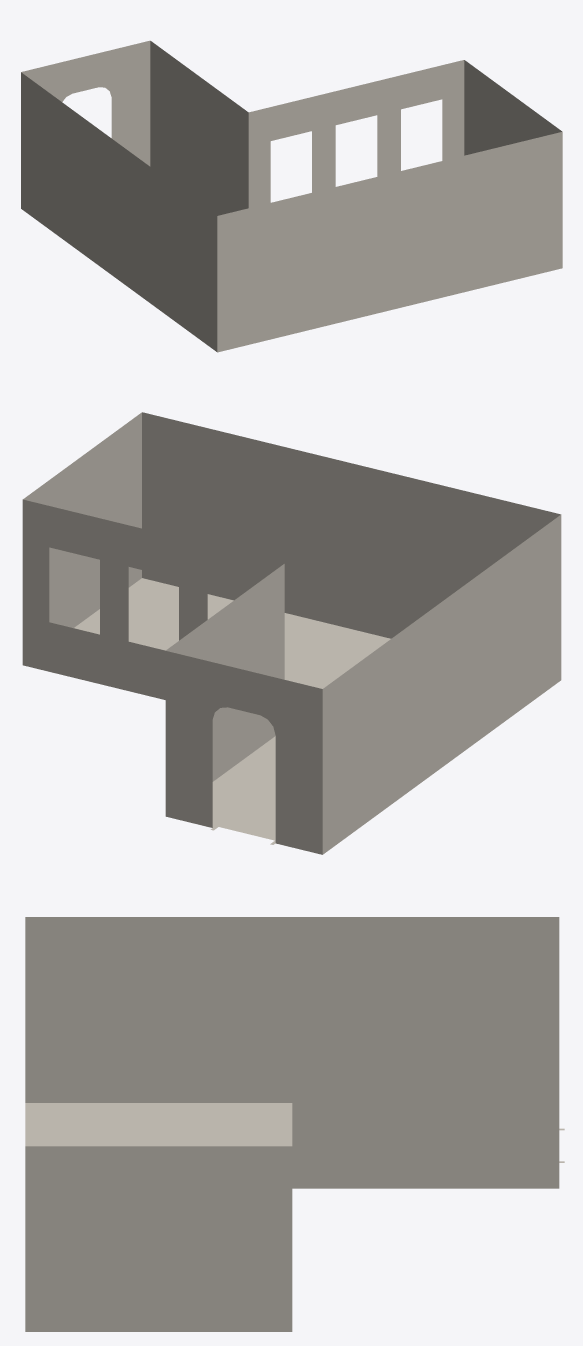
File: Bld_C_low_L4_C.fbx
3 views of the same model, one above another, from view 1: azimuth 30°, elevation 25°; view 2: azimuth 150°, elevation 25°; view 3: azimuth 270°, elevation 25° (orthographic). The views are drawn at different scales.
Visible parts, largest first — view 1: Bld_C_low_L4_C_LOD0; view 2: Bld_C_low_L4_C_LOD0; view 3: Bld_C_low_L4_C_LOD0.
Boxes of the visible parts, x1=… form: Bld_C_low_L4_C_LOD0: x1=21, y1=40, x2=562, y2=352; Bld_C_low_L4_C_LOD0: x1=22, y1=412, x2=561, y2=854; Bld_C_low_L4_C_LOD0: x1=25, y1=917, x2=564, y2=1331.
Size of what is drawn, in the model's own units: 1300 by 638 by 1300.
1 material, 1 textured.
